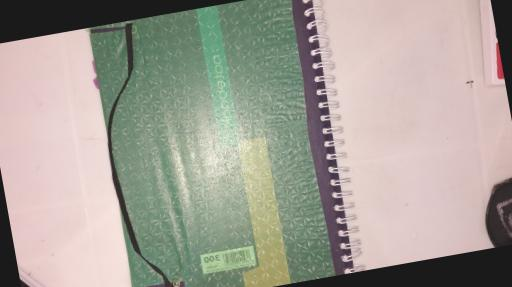notebook: (87, 0, 365, 287)
